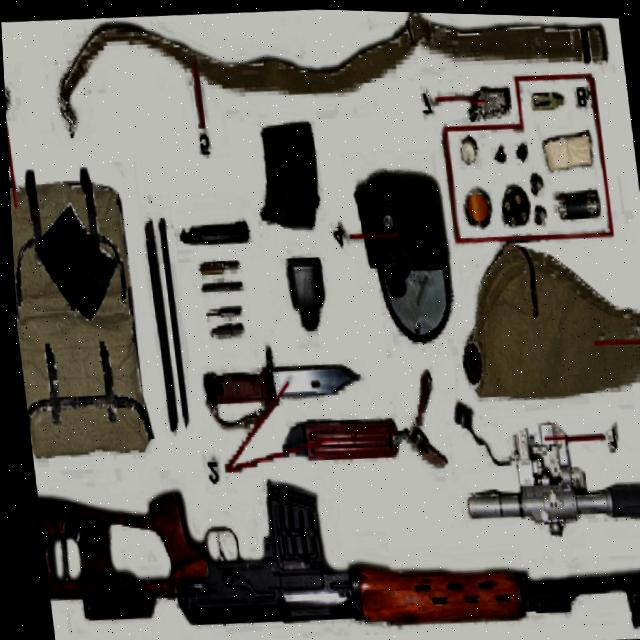firearm: (29, 441, 640, 640)
knife: (193, 335, 360, 412)
